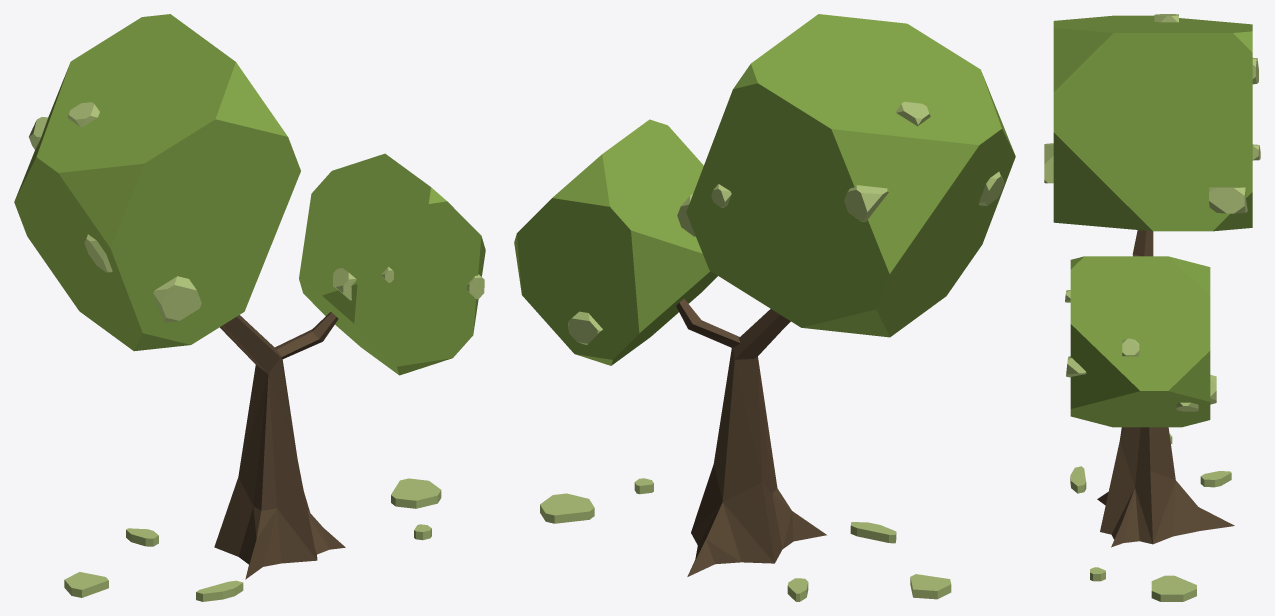
Rendered from Tree_D_03.FBX.
3 renders of one model, left to right at view 1: azimuth 30°, elevation 25°; view 2: azimuth 150°, elevation 25°; view 3: azimuth 270°, elevation 25°, orthographic. The views are drawn at different scales.
Parts seen in each view (by area): view 1: Tree_D_03; view 2: Tree_D_03; view 3: Tree_D_03.
Boxes of the visible parts, x1,y1,x2,y2 form: Tree_D_03: (14,14,485,601); Tree_D_03: (514,14,1015,601); Tree_D_03: (1044,14,1260,601).
Size of the model in its own units: 2.88 by 3.18 by 1.34.
